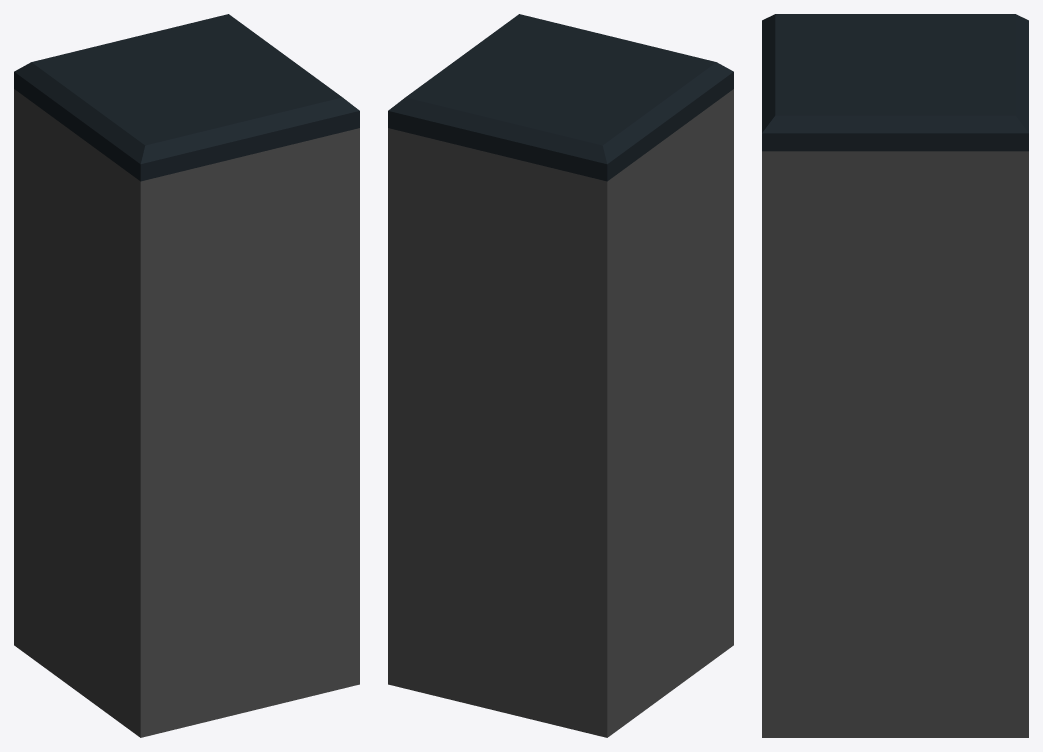
File: Path1.fbx
3 views of the same model, side by side, from view 1: azimuth 30°, elevation 25°; view 2: azimuth 150°, elevation 25°; view 3: azimuth 270°, elevation 25° (orthographic). The views are drawn at different scales.
Parts seen in each view (by area): view 1: Cube; view 2: Cube; view 3: Cube.
Boxes of the visible parts, x1,y1,x2,y2 form: Cube: (14,14,359,737); Cube: (388,14,733,737); Cube: (762,14,1028,737).
Size of the model in its own units: 2 by 5.1 by 2.
